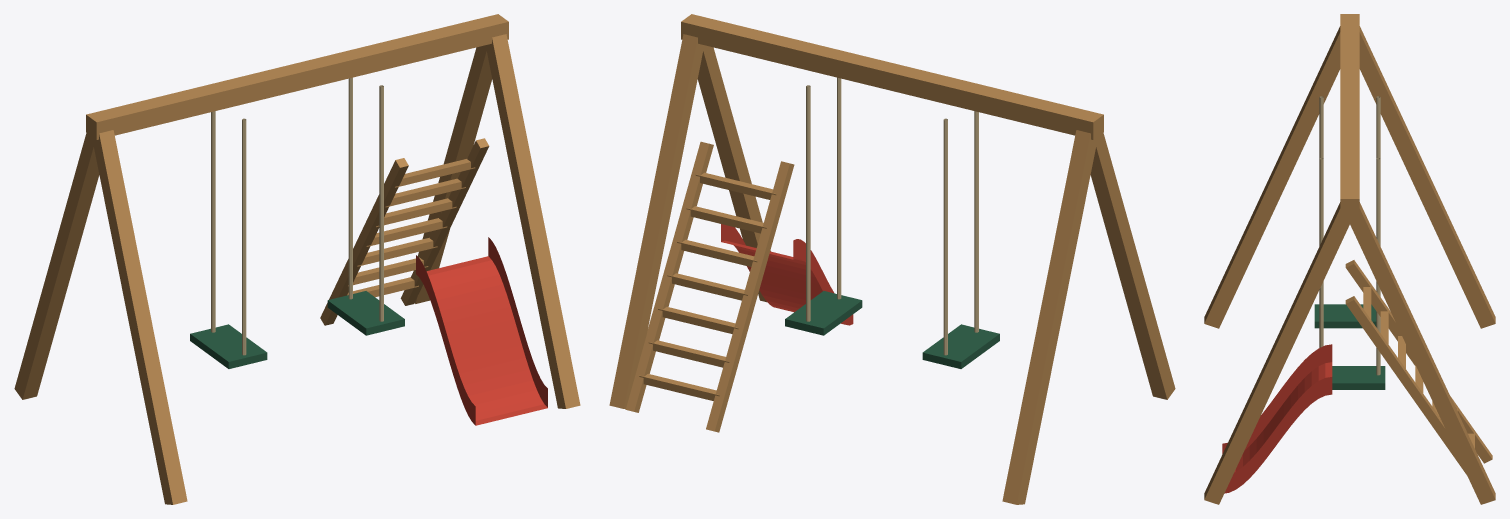
3 views of the same model, side by side, from view 1: azimuth 30°, elevation 25°; view 2: azimuth 150°, elevation 25°; view 3: azimuth 270°, elevation 25° (orthographic). The views are drawn at different scales.
Parts seen in each view (by area): view 1: SW-T212; view 2: SW-T212; view 3: SW-T212.
Boxes of the visible parts, x1,y1,x2,y2 form: SW-T212: (14, 14, 580, 504); SW-T212: (609, 14, 1175, 504); SW-T212: (1204, 14, 1495, 504).
Bounding box in the file's own units: 2.7 × 2.1 × 1.8.
